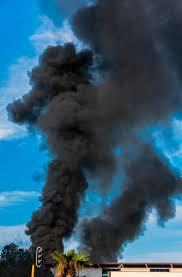smoke: (7, 1, 181, 254)
